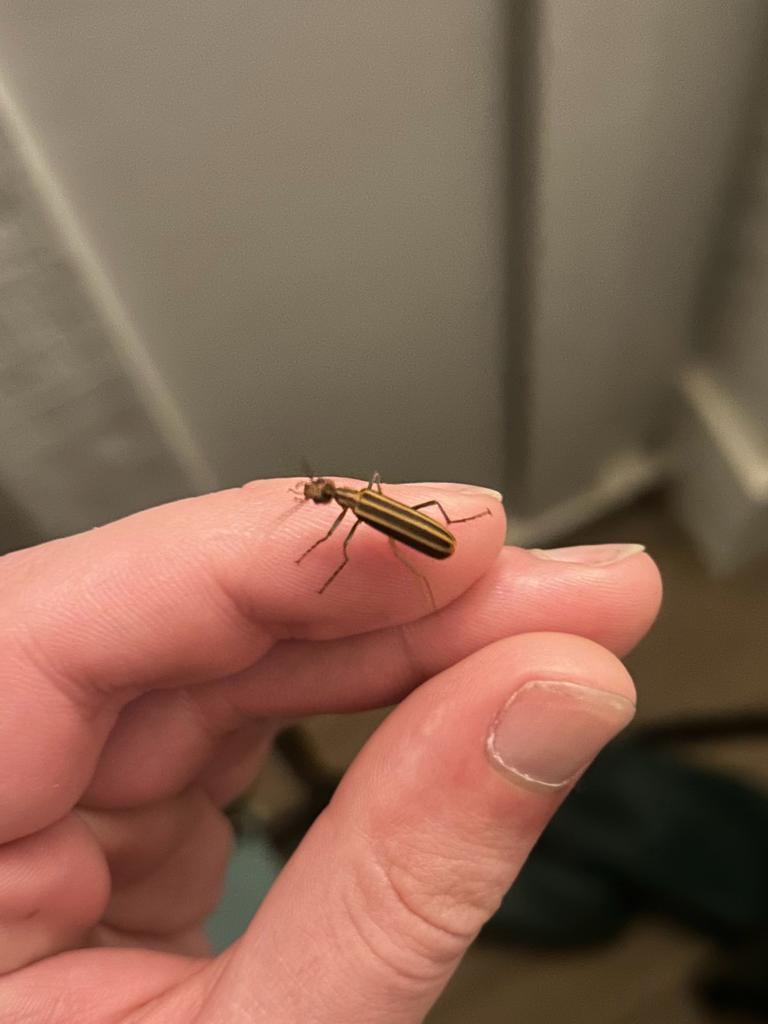blister_beetle: (277, 440, 531, 611)
